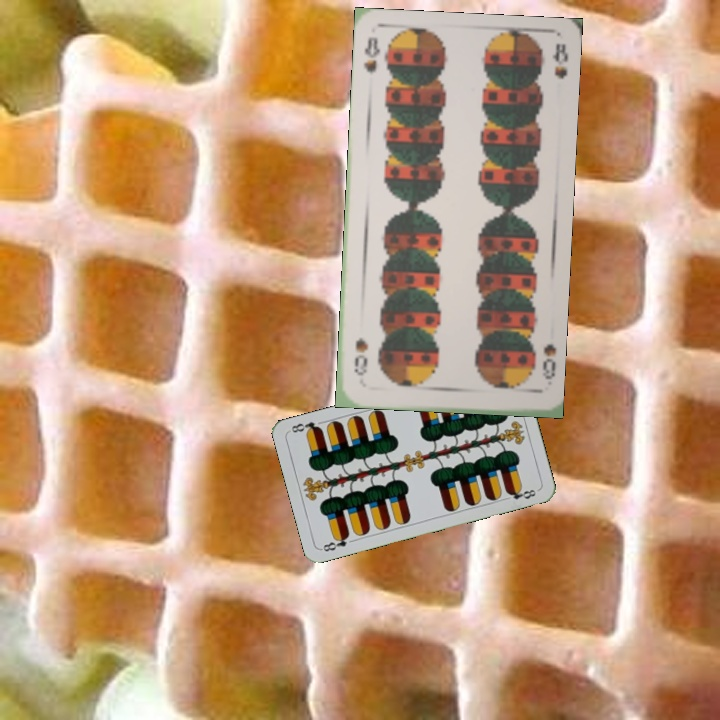E8: (318, 530, 352, 554)
S8: (360, 33, 383, 76), (538, 340, 558, 382)
